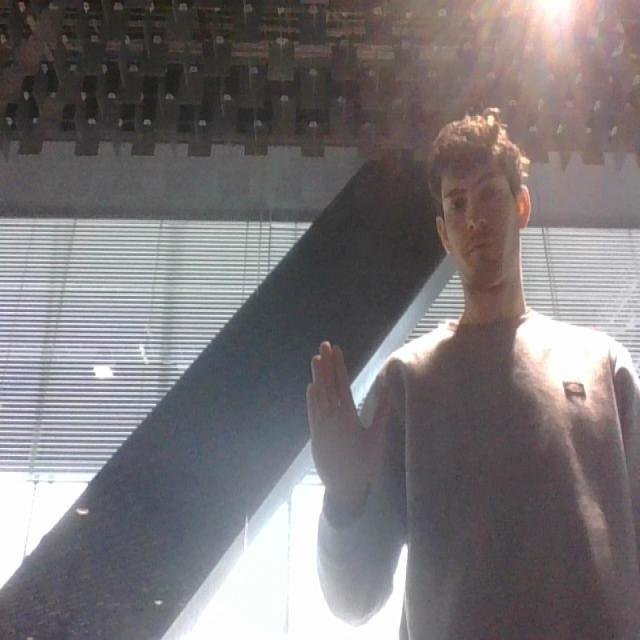backward: (304, 335, 394, 510)
